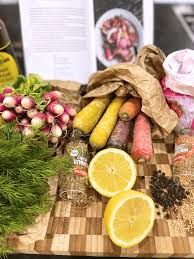carrot: (133, 110, 165, 161), (117, 92, 146, 125)
lemon: (94, 188, 168, 250), (76, 146, 149, 197)
raddish: (38, 84, 71, 106), (49, 98, 67, 125), (0, 86, 20, 109), (18, 88, 34, 112), (28, 110, 47, 128)
